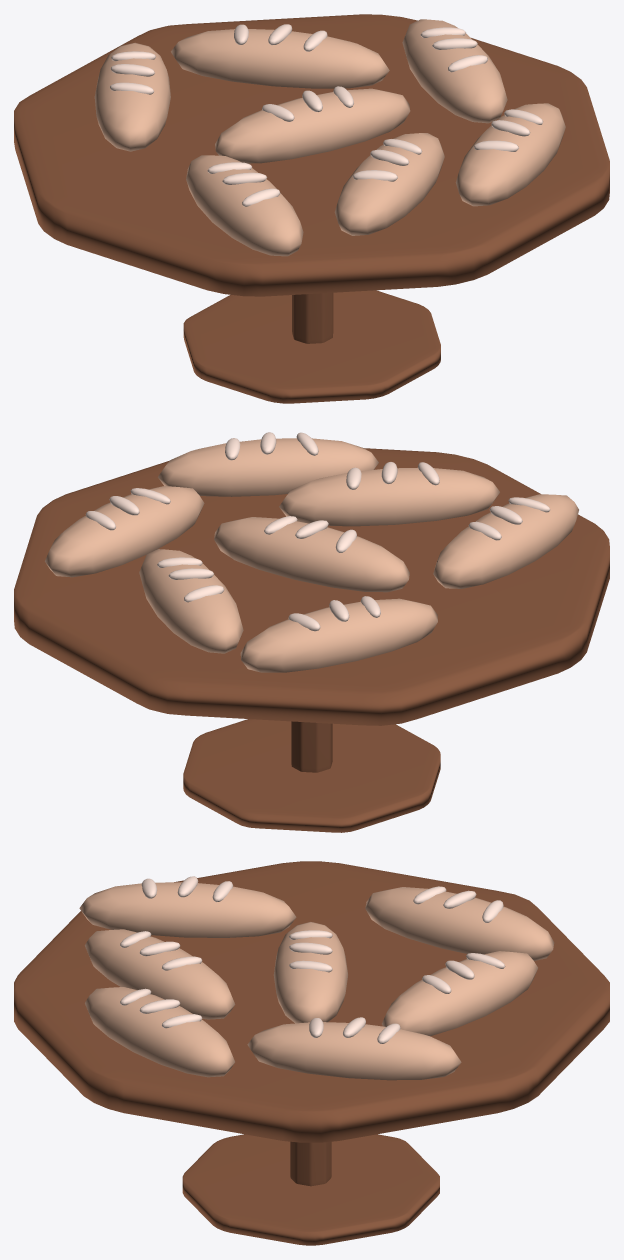
The model's file is Baguette Table.fbx.
3 renders of one model, top to bottom at view 1: azimuth 30°, elevation 25°; view 2: azimuth 150°, elevation 25°; view 3: azimuth 270°, elevation 25°, orthographic. The views are drawn at different scales.
Visible parts, largest first — view 1: Table Top.002, Table Base.002, Baguette.005, Baguette, Baguette.003, Baguette.001, Baguette.002, Baguette.004, Baguette.006, Table Leg.002; view 2: Table Top.002, Table Base.002, Baguette.001, Baguette.006, Baguette, Baguette.002, Baguette.004, Baguette.003, Baguette.005, Table Leg.002; view 3: Table Top.002, Table Base.002, Baguette.003, Baguette.004, Baguette.006, Baguette.002, Baguette.005, Baguette.001, Baguette, Table Leg.002.
Part boxes in pixels (x1,y1,x2,y2): Table Top.002: (14,14,609,296); Table Base.002: (183,290,440,403); Baguette.005: (171,29,389,88); Baguette: (215,88,410,163); Baguette.003: (186,155,303,256); Baguette.001: (334,133,444,235); Baguette.002: (455,103,565,206); Baguette.004: (402,19,507,123); Baguette.006: (94,42,170,151); Table Leg.002: (292,292,333,343); Table Top.002: (14,448,609,725); Table Base.002: (183,719,440,832); Baguette.001: (279,467,499,526); Baguette.006: (240,598,437,672); Baguette: (214,517,409,592); Baguette.002: (158,438,378,496); Baguette.004: (45,486,204,577); Baguette.003: (433,494,578,588); Baguette.005: (139,549,243,653); Table Leg.002: (291,721,332,772); Table Top.002: (14,861,609,1142); Table Base.002: (182,1134,439,1245); Baguette.003: (79,882,296,937); Baguette.004: (247,1022,461,1080); Baguette.006: (365,887,554,960); Baguette.002: (85,987,234,1077); Baguette.005: (382,951,537,1036); Baguette.001: (85,929,235,1019); Baguette: (273,922,347,1023); Table Leg.002: (290,1141,331,1186).
Bounding box in the file's own units: 195 × 89.9 × 196.
